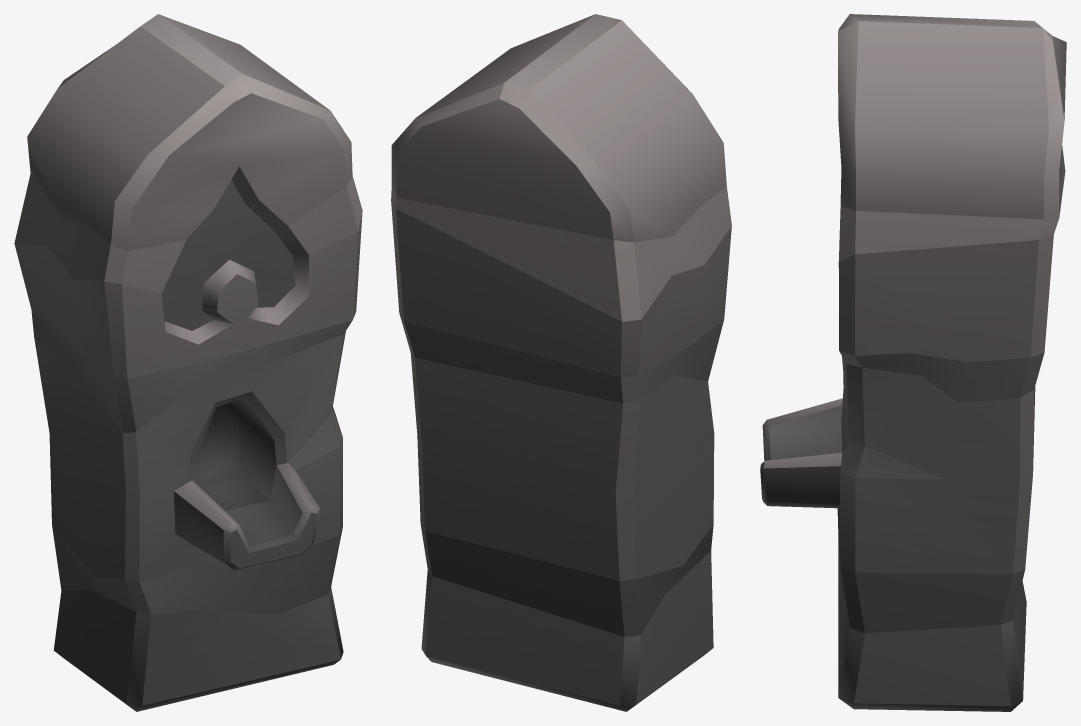
The model's file is elf_monolith.fbx.
3 renders of one model, left to right at view 1: azimuth 30°, elevation 25°; view 2: azimuth 150°, elevation 25°; view 3: azimuth 270°, elevation 25°, orthographic. The views are drawn at different scales.
Visible parts, largest first — view 1: elf_monolith; view 2: elf_monolith; view 3: elf_monolith.
Boxes of the visible parts, x1=… form: elf_monolith: x1=14, y1=14, x2=362, y2=711; elf_monolith: x1=391, y1=14, x2=731, y2=711; elf_monolith: x1=760, y1=14, x2=1066, y2=711.
Bounding box in the file's own units: 2.76 × 6.32 × 2.72.
